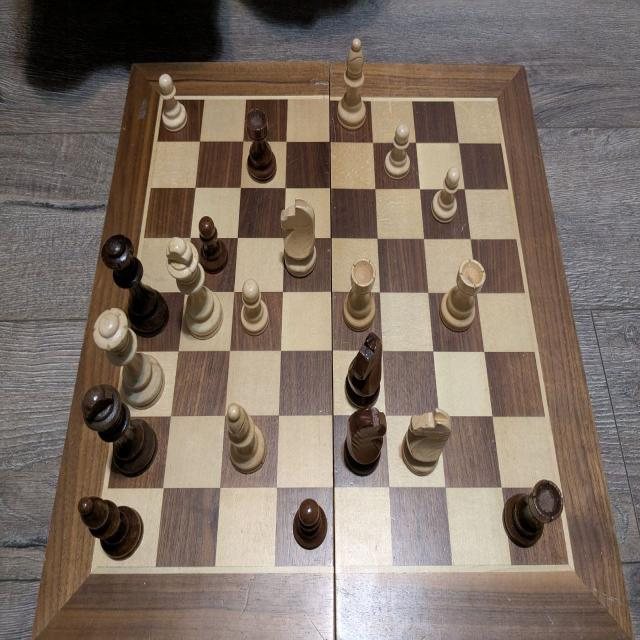black_bishop: (78, 498, 142, 562)
black_king: (81, 381, 158, 476)
black_knight: (344, 406, 387, 477), (344, 333, 383, 409)
black_pawn: (293, 494, 329, 552), (198, 216, 228, 272)
black_queen: (101, 234, 170, 336)
black_rook: (502, 477, 564, 549), (245, 108, 276, 181)
white_bishop: (227, 404, 268, 474), (337, 38, 367, 130)
white_king: (166, 240, 225, 342)
white_knight: (399, 405, 451, 476), (281, 196, 316, 275)
white_pawn: (429, 164, 462, 223), (157, 72, 188, 132), (239, 277, 270, 336), (385, 120, 413, 180)
white_queen: (94, 309, 166, 407)
white_rook: (439, 258, 487, 331), (342, 257, 376, 329)
